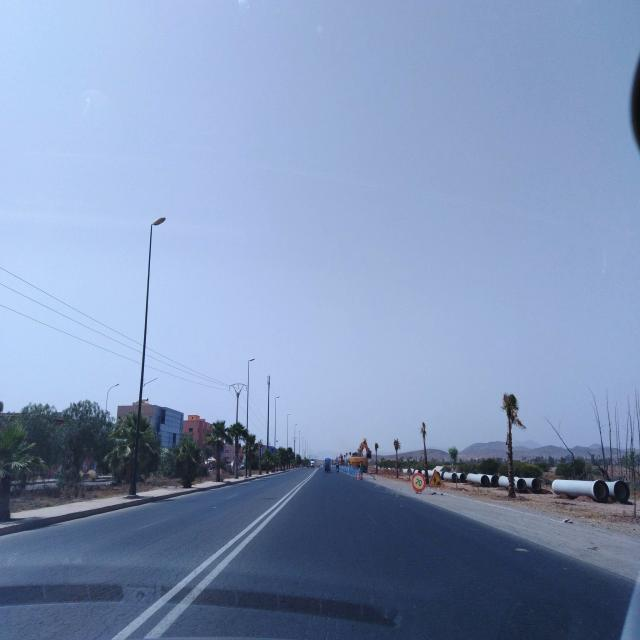car: (531, 478, 553, 493), (443, 471, 467, 483), (514, 477, 528, 492)
